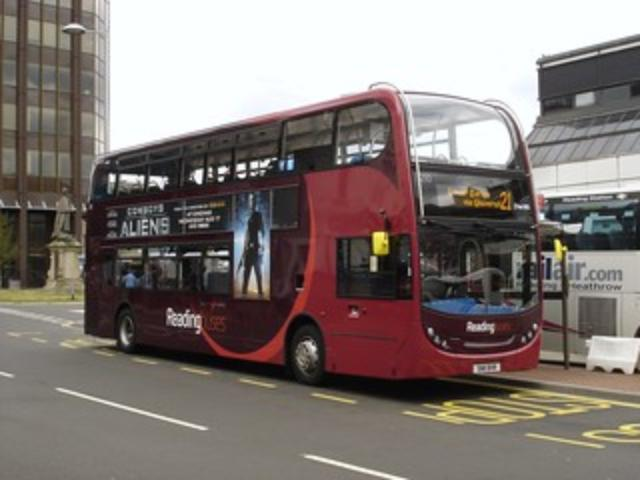bus: (80, 88, 544, 386)
